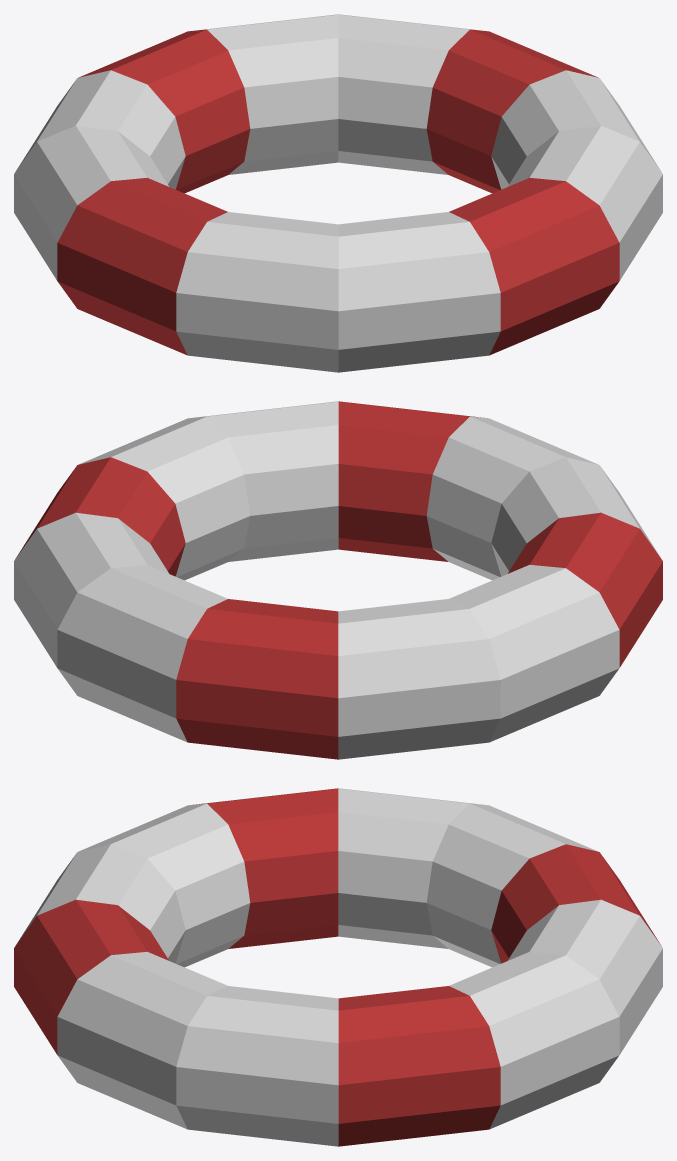
Rendered from Buoy.fbx.
3 views of the same model, one above another, from view 1: azimuth 30°, elevation 25°; view 2: azimuth 150°, elevation 25°; view 3: azimuth 270°, elevation 25° (orthographic).
Parts seen in each view (by area): view 1: pTorus1; view 2: pTorus1; view 3: pTorus1.
Part boxes in pixels (bbox=[...]): pTorus1: bbox=[14, 14, 662, 372]; pTorus1: bbox=[14, 401, 662, 759]; pTorus1: bbox=[14, 788, 662, 1146].
Size of the model in its own units: 0.1882 by 0.0434 by 0.1882.
